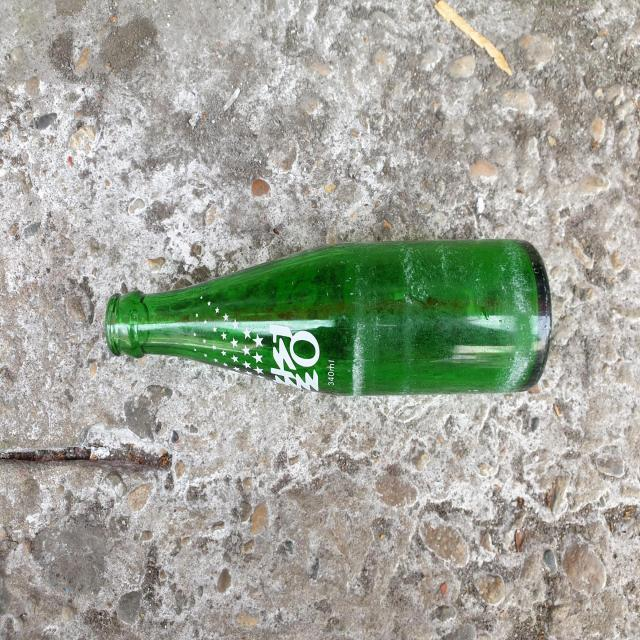glass: (105, 239, 552, 395)
